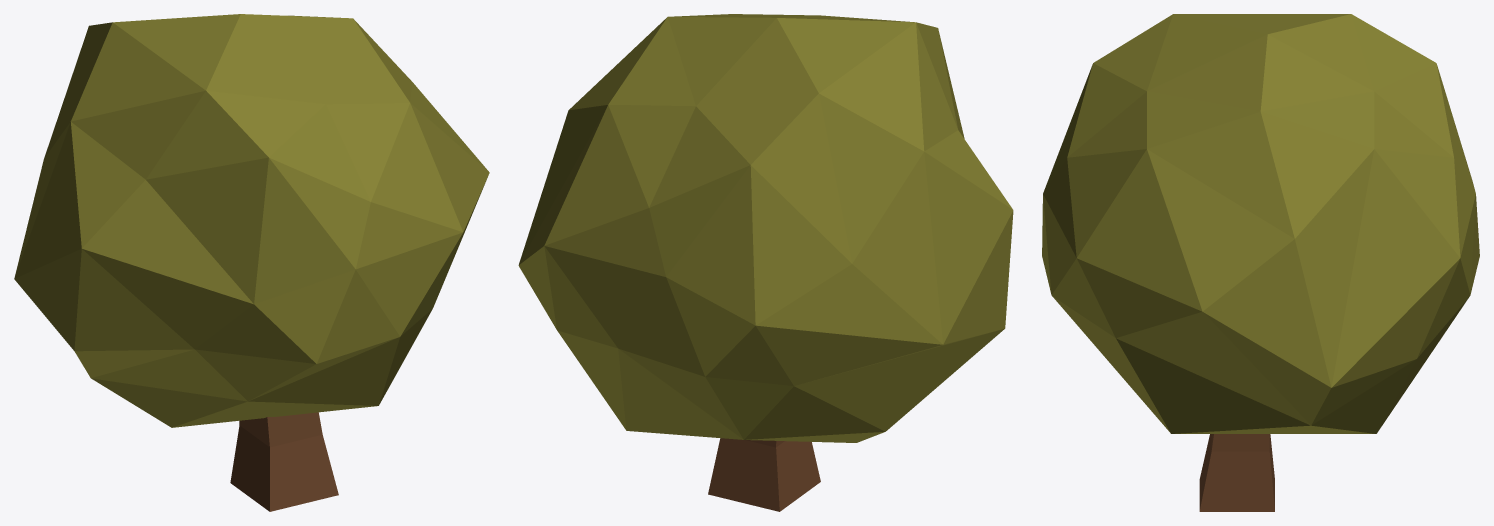
File: Tree_31_Yellow.fbx
The picture shows the model from 3 angles, left to right: view 1: azimuth 30°, elevation 25°; view 2: azimuth 150°, elevation 25°; view 3: azimuth 270°, elevation 25°; orthographic projection. The views are drawn at different scales.
Parts seen in each view (by area): view 1: Tree_31_Yellow_Part_1, Tree_31_Yellow_Part_2; view 2: Tree_31_Yellow_Part_1, Tree_31_Yellow_Part_2; view 3: Tree_31_Yellow_Part_1, Tree_31_Yellow_Part_2.
Boxes of the visible parts, x1,y1,x2,y2 form: Tree_31_Yellow_Part_1: (14,14,489,427); Tree_31_Yellow_Part_2: (230,412,338,511); Tree_31_Yellow_Part_1: (518,14,1013,442); Tree_31_Yellow_Part_2: (708,438,820,511); Tree_31_Yellow_Part_1: (1042,14,1479,433); Tree_31_Yellow_Part_2: (1199,434,1274,511).
Size of the model in its own units: 732 by 807 by 713.
